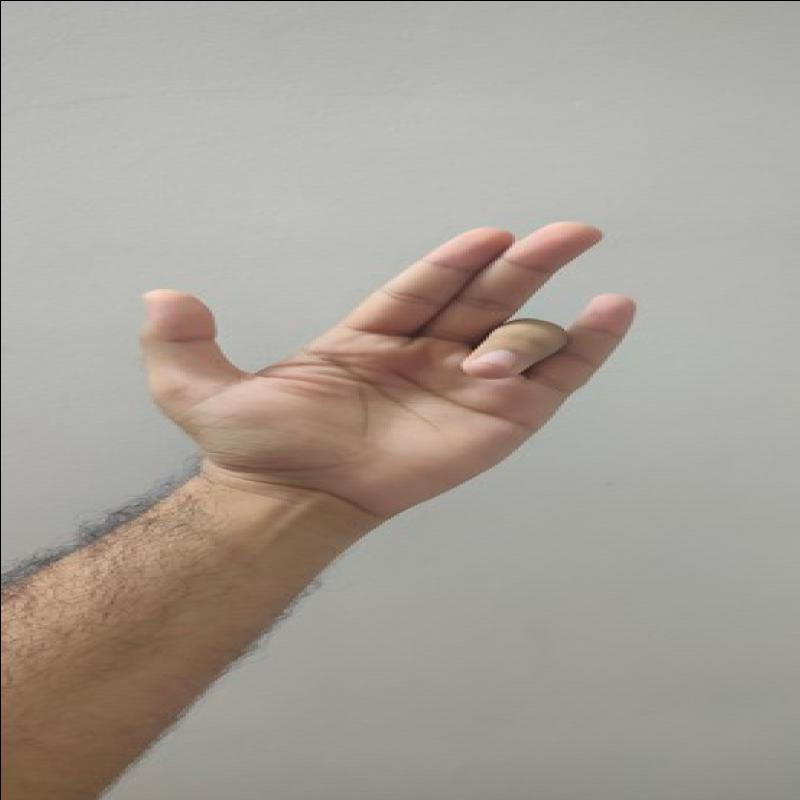Pathaaka: (123, 211, 650, 526)
